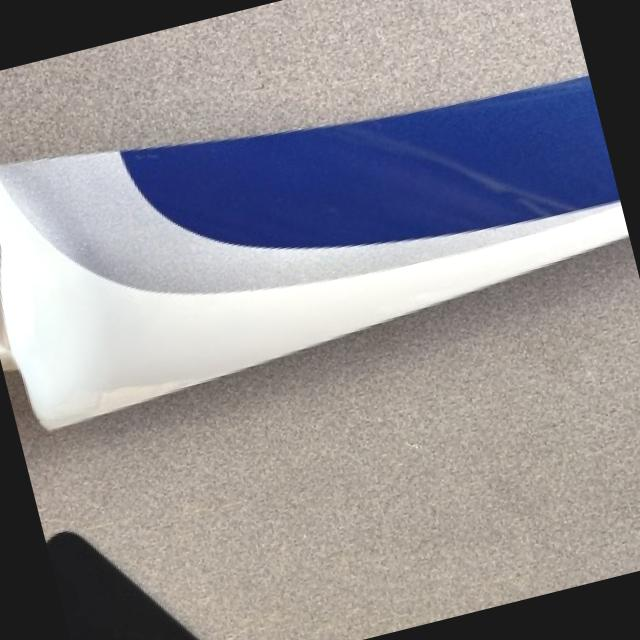healthy: (0, 148, 627, 426)
